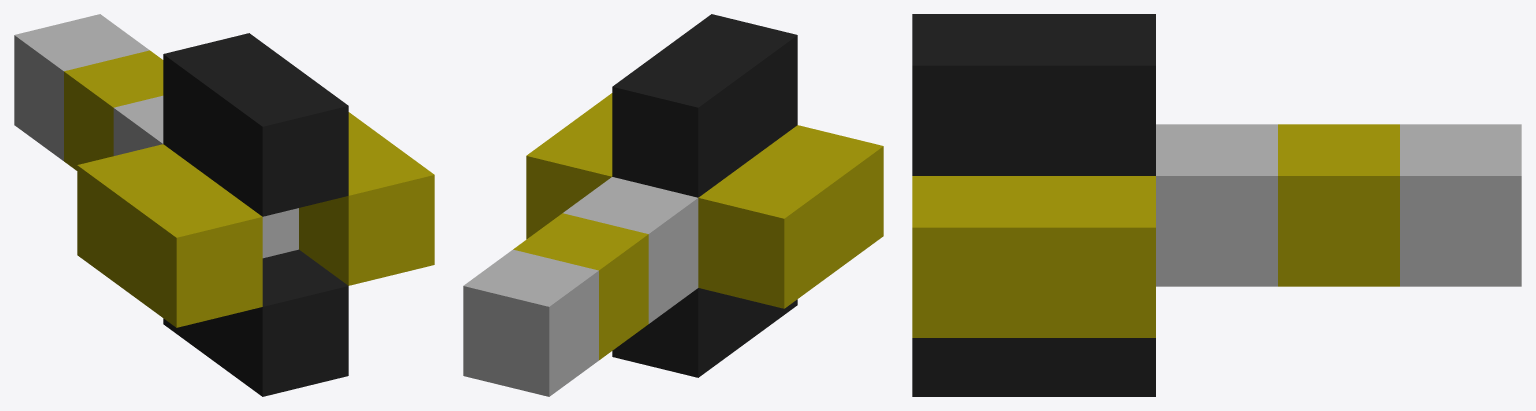
File: Bomb.fbx
3 renders of one model, left to right at view 1: azimuth 30°, elevation 25°; view 2: azimuth 150°, elevation 25°; view 3: azimuth 270°, elevation 25°, orthographic. The views are drawn at different scales.
Visible parts, largest first — view 1: Box007, Box009, Box011, Box013, Box001, Box008, Box006, Box002, Box003, Box004, Box012, Box010; view 2: Box008, Box001, Box006, Box003, Box002, Box009, Box007, Box012, Box010, Box013, Box011; view 3: Box001, Box002, Box003, Box006, Box007, Box010, Box011, Box012, Box013.
Boxes of the visible parts, box(x1,y1,x2,y2) form: Box007: box(213, 69, 348, 216); Box009: box(127, 180, 262, 327); Box011: box(299, 138, 434, 285); Box013: box(213, 249, 348, 396); Box001: box(14, 14, 149, 160); Box008: box(77, 144, 212, 291); Box006: box(163, 33, 298, 179); Box002: box(64, 50, 163, 170); Box003: box(113, 95, 163, 155); Box004: box(262, 208, 298, 258); Box012: box(163, 318, 212, 360); Box010: box(348, 112, 384, 147); Box008: box(698, 161, 833, 308); Box001: box(463, 249, 598, 396); Box006: box(612, 50, 747, 197); Box003: box(563, 177, 698, 323); Box002: box(513, 213, 648, 360); Box009: box(748, 125, 883, 272); Box007: box(662, 14, 797, 160); Box012: box(612, 288, 747, 377); Box010: box(526, 119, 612, 239); Box013: box(748, 299, 797, 341); Box011: box(576, 93, 612, 127); Box001: box(1400, 124, 1521, 286); Box002: box(1278, 124, 1399, 286); Box003: box(1156, 124, 1277, 286); Box006: box(1034, 14, 1155, 175); Box007: box(912, 14, 1033, 175); Box010: box(1034, 176, 1155, 337); Box011: box(912, 176, 1033, 337); Box012: box(1034, 338, 1155, 396); Box013: box(912, 338, 1033, 396).
Bounding box in the file's own units: 30 × 30 × 50.
